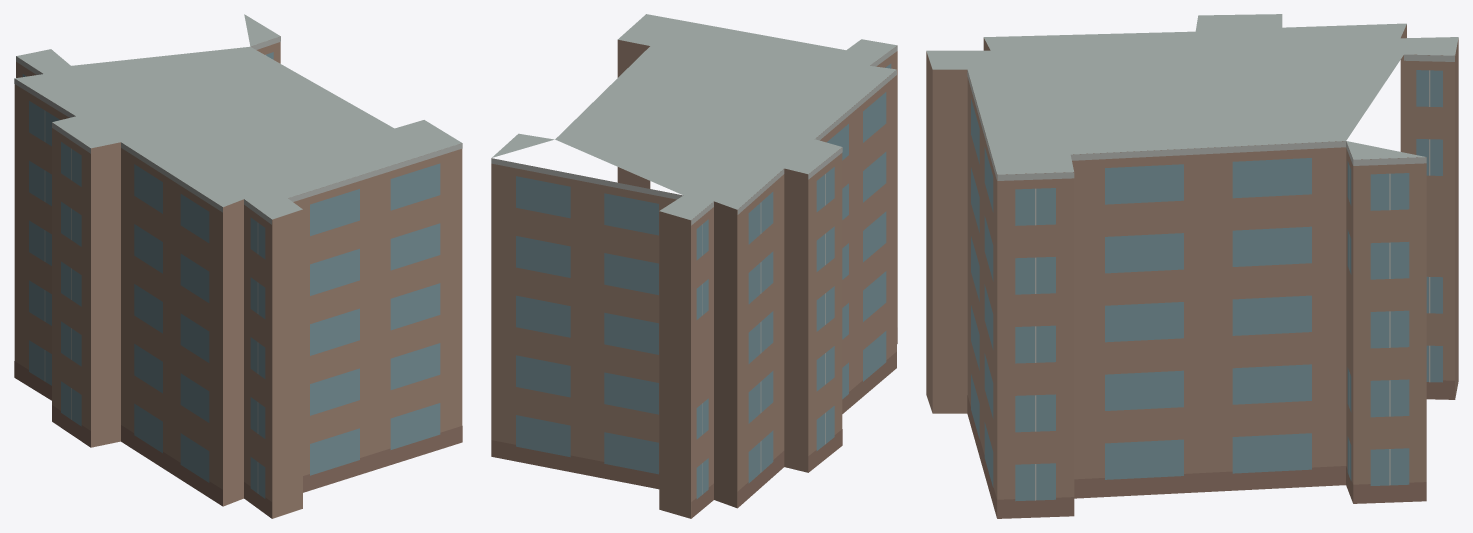
File: survey-upis-33009557.glb
3 views of the same model, side by side, from view 1: azimuth 30°, elevation 25°; view 2: azimuth 150°, elevation 25°; view 3: azimuth 270°, elevation 25° (orthographic). The views are drawn at different scales.
Parts seen in each view (by area): view 1: survey-upis-33009557.tmp; view 2: survey-upis-33009557.tmp; view 3: survey-upis-33009557.tmp.
Boxes of the visible parts, x1,y1,x2,y2 form: survey-upis-33009557.tmp: [14, 14, 462, 518]; survey-upis-33009557.tmp: [491, 14, 897, 518]; survey-upis-33009557.tmp: [926, 14, 1458, 518].
Size of the model in its own units: 13.33 by 13.3 by 18.65.
